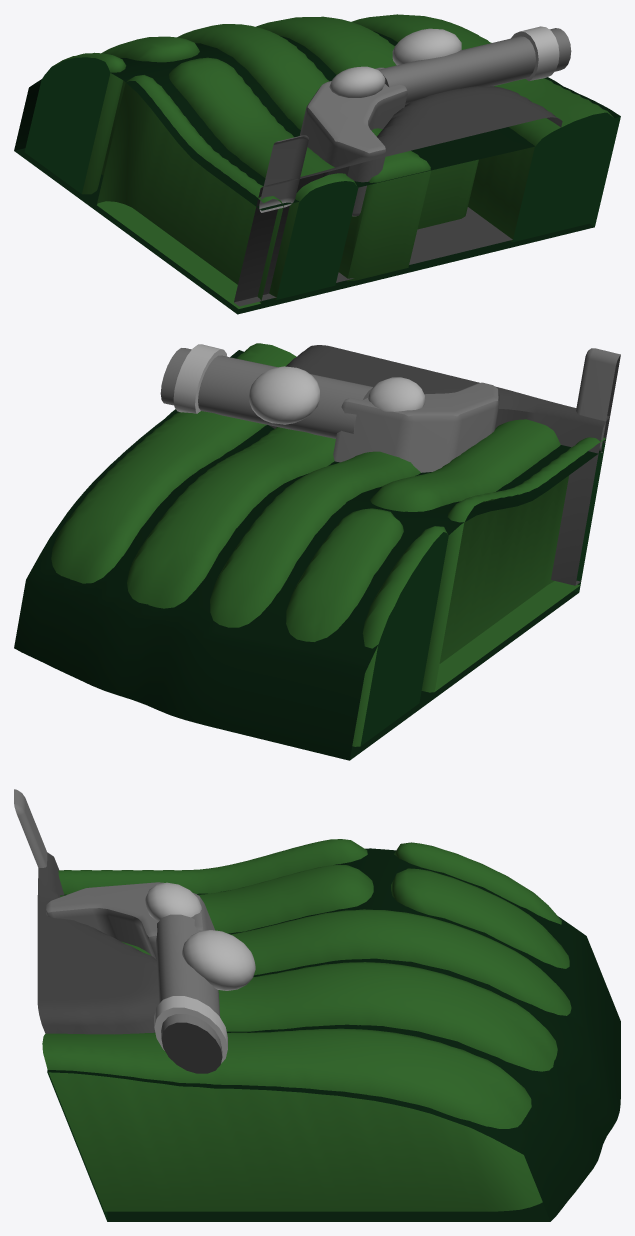
File: green_shell_157.glb
3 renders of one model, top to bottom at view 1: azimuth 30°, elevation 25°; view 2: azimuth 150°, elevation 25°; view 3: azimuth 270°, elevation 25°, orthographic. The views are drawn at different scales.
Parts seen in each view (by area): view 1: green_shell_157; view 2: green_shell_157; view 3: green_shell_157.
Part boxes in pixels (bbox=[...]): green_shell_157: bbox=[14, 14, 620, 314]; green_shell_157: bbox=[14, 343, 620, 760]; green_shell_157: bbox=[14, 789, 620, 1221].
Size of the model in its own units: 24 by 12.97 by 30.72.
